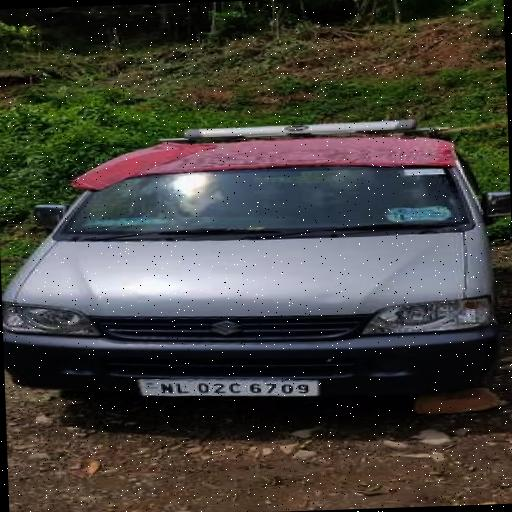license_plate`: (132, 372, 317, 402)
